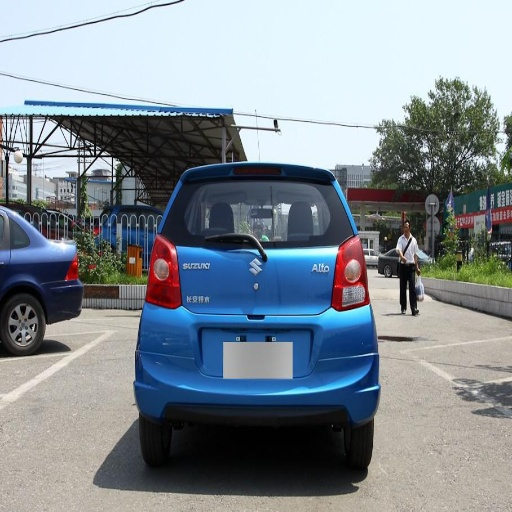back_bumper: (133, 304, 378, 428)
trunk: (177, 238, 358, 369)
